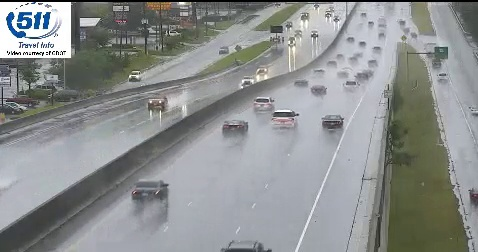car: (132, 180, 168, 200), (271, 110, 297, 128), (222, 119, 248, 135), (253, 97, 274, 113), (322, 115, 344, 130)
